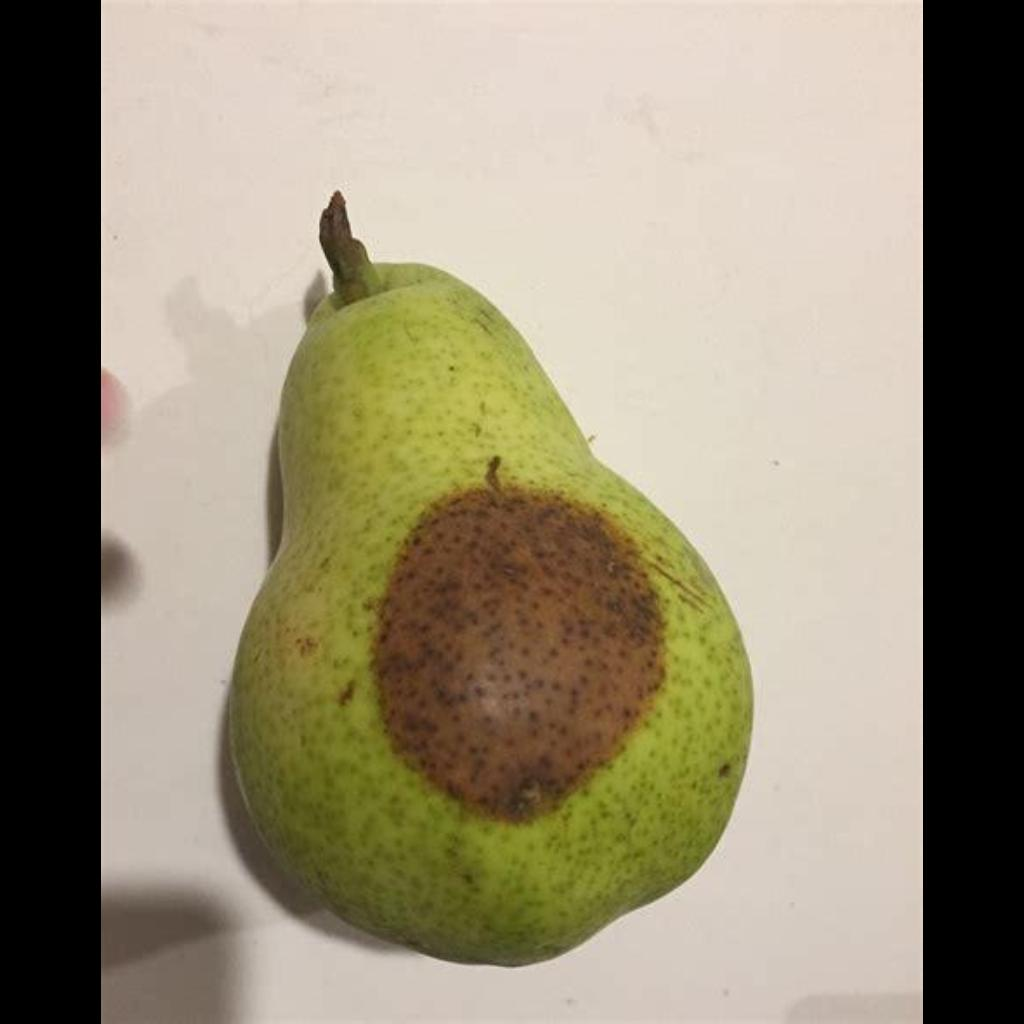antracnosis_fruto: (313, 440, 697, 818)
